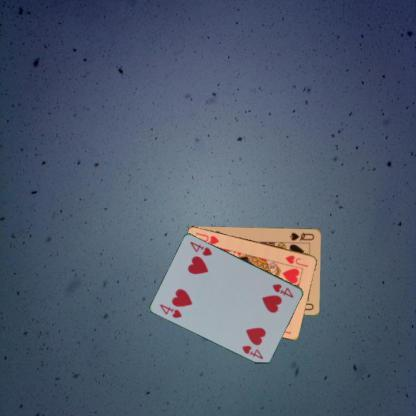4h: (157, 301, 183, 319), (270, 281, 294, 299)
Jh: (283, 252, 309, 269)
Qs: (287, 230, 316, 242)
